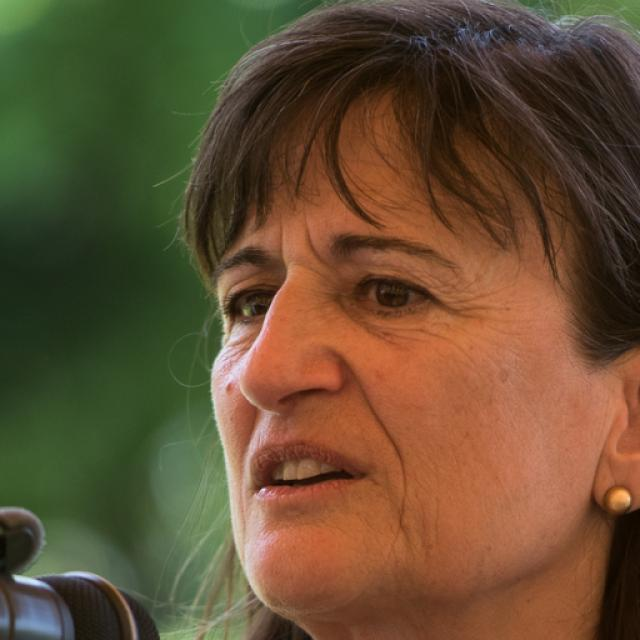disgust: (208, 80, 594, 616)
